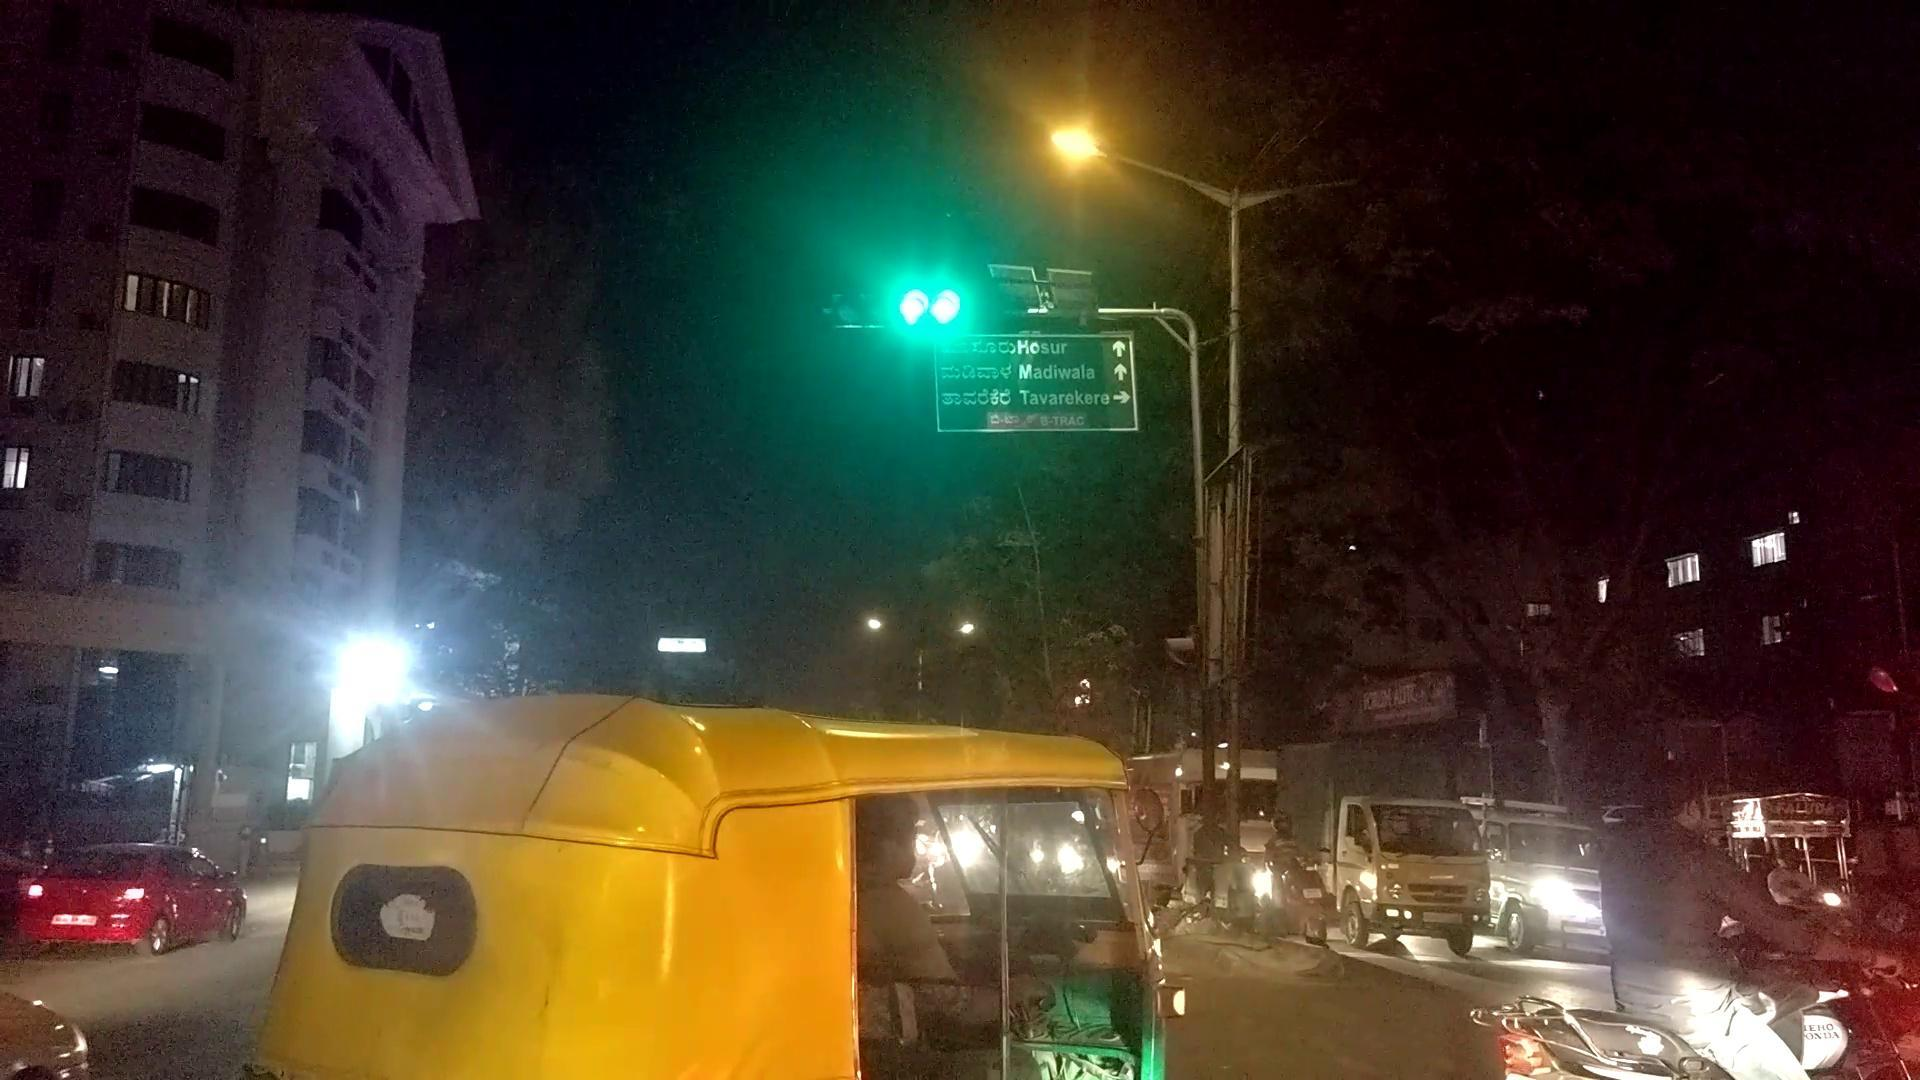on: (920, 42, 1295, 243)
